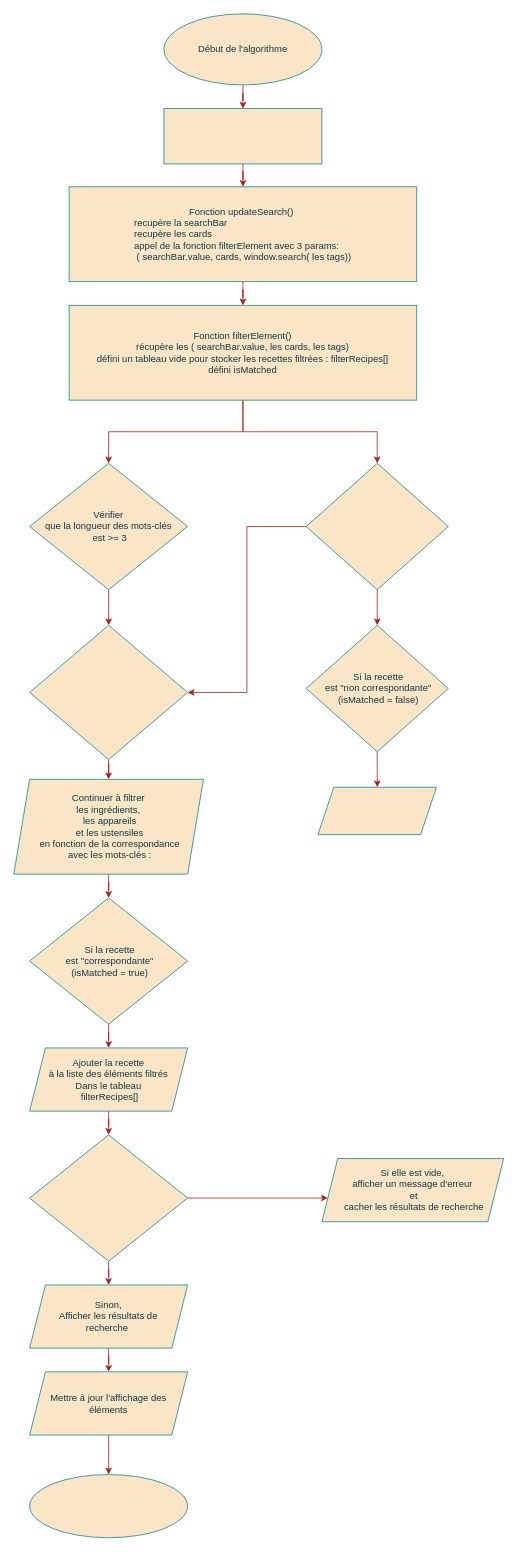
The diagram is 517 pixels wide and 1552 high, and some of its shapes have lost their labels. Each missing label, with the centre of its shape:
Affiche un message d'erreur: (x=376, y=810)
Fin de l'algorithme: (x=108, y=1506)
Fonction searchAlgo() Récupère la serachBar et ajout un Event: (x=242, y=136)
Si Oui, marquer la recette correspondante (isMatched ="true"): (x=108, y=692)
Vérifier si la liste de recette filtrée est vide: (x=108, y=1197)
Vérifier si un des mots-clés correspond à une donnée de recette: (x=376, y=526)
